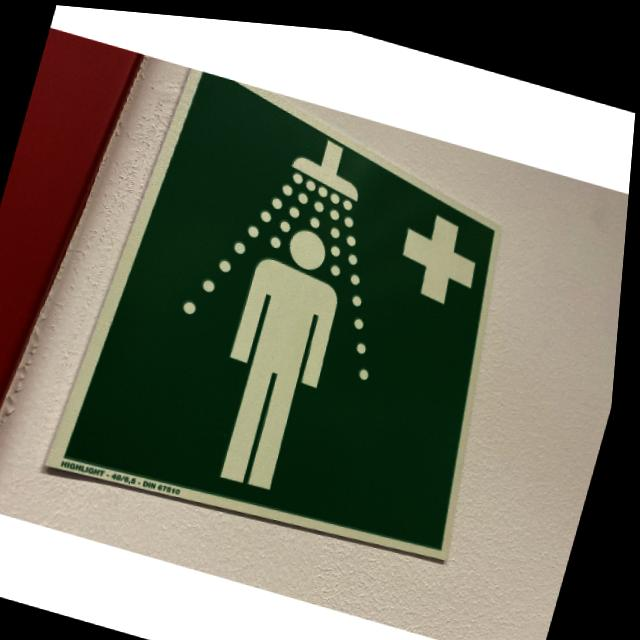shower: (46, 51, 561, 578)
